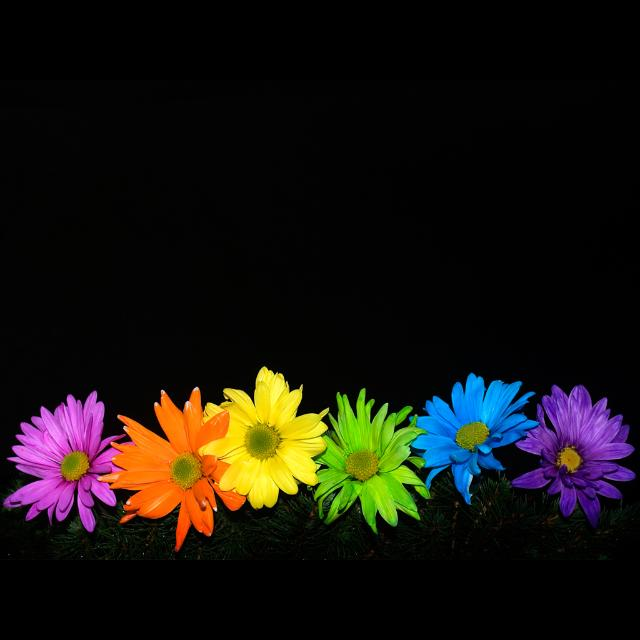Flower: (306, 387, 430, 537), (4, 391, 134, 534), (198, 366, 328, 508), (103, 398, 231, 540), (510, 385, 636, 525), (408, 373, 540, 503)
